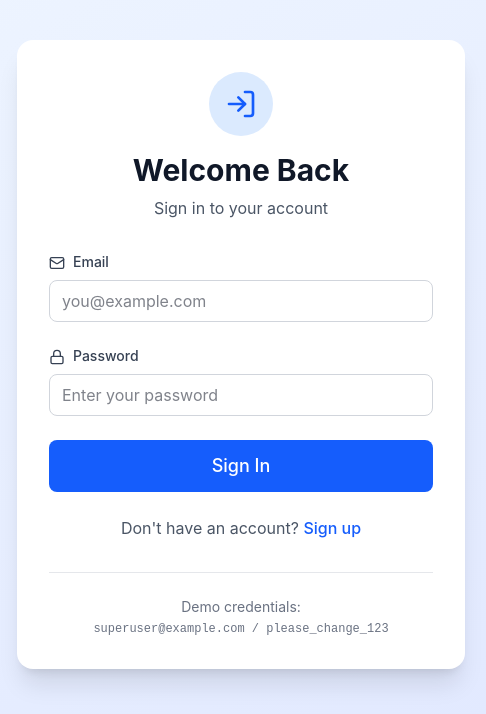
Test: LoginPage › shows validation errors for empty fields
Click the button "Sign In". click: (241, 466)
box: [49,440,433,492]
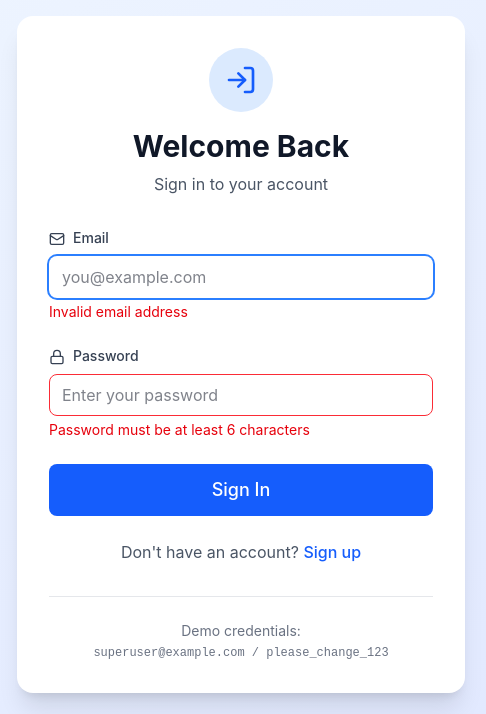
expect the text "Invalid email address" is shown: met, box [49,302,188,320]
